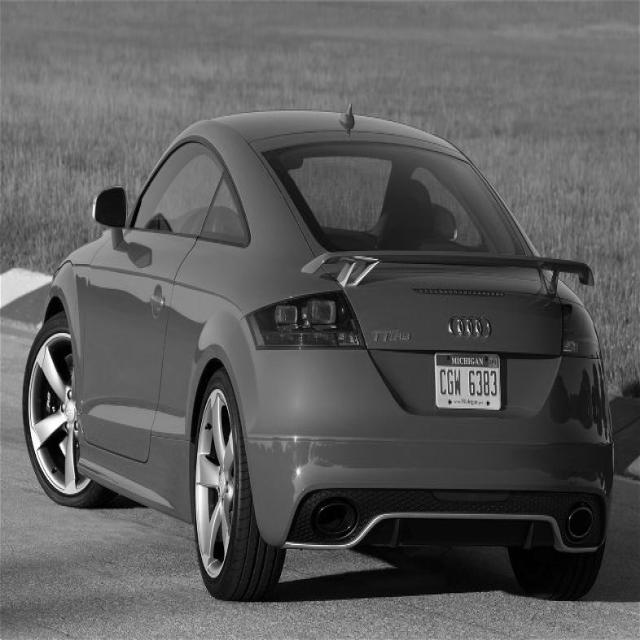car: (21, 101, 615, 604)
plat_license: (433, 351, 502, 410)
